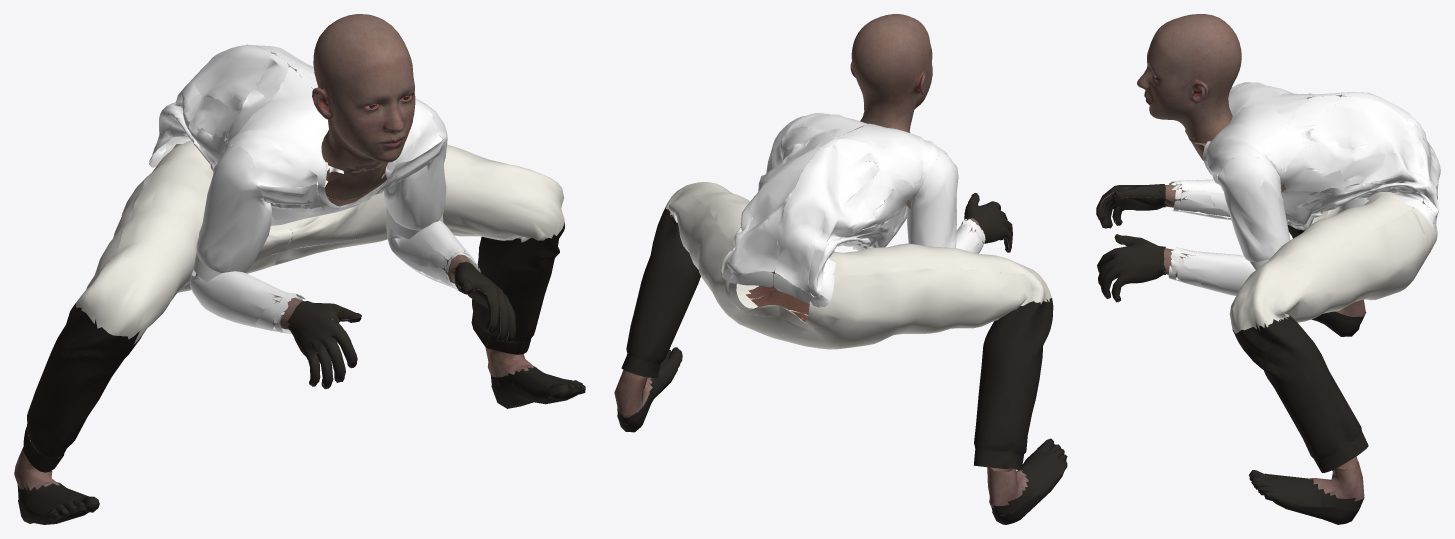
The model's file is jockey-mounted-v3.glb.
3 views of the same model, side by side, from view 1: azimuth 30°, elevation 25°; view 2: azimuth 150°, elevation 25°; view 3: azimuth 270°, elevation 25° (orthographic). The views are drawn at different scales.
Visible parts, largest first — view 1: Pants, Shirt, cm_vitruvian.001, cm_vitruvian, RacingSleeves, FittedRacingGloves; view 2: Pants, Shirt, cm_vitruvian, cm_vitruvian.001, FittedRacingGloves, RacingSleeves; view 3: Shirt, Pants, cm_vitruvian.001, cm_vitruvian, FittedRacingGloves, RacingSleeves.
Boxes of the visible parts, x1=… form: Pants: x1=22, y1=133, x2=564, y2=472; Shirt: x1=149, y1=44, x2=447, y2=281; cm_vitruvian.001: x1=312, y1=14, x2=415, y2=172; cm_vitruvian: x1=14, y1=161, x2=585, y2=524; RacingSleeves: x1=190, y1=220, x2=480, y2=333; FittedRacingGloves: x1=287, y1=261, x2=515, y2=389; Pants: x1=621, y1=182, x2=1053, y2=470; Shirt: x1=721, y1=113, x2=958, y2=307; cm_vitruvian: x1=614, y1=132, x2=1067, y2=524; cm_vitruvian.001: x1=848, y1=14, x2=932, y2=132; FittedRacingGloves: x1=964, y1=193, x2=1012, y2=252; RacingSleeves: x1=955, y1=219, x2=985, y2=253; Shirt: x1=1202, y1=82, x2=1440, y2=269; Pants: x1=1229, y1=179, x2=1437, y2=472; cm_vitruvian.001: x1=1137, y1=14, x2=1241, y2=143; cm_vitruvian: x1=1098, y1=129, x2=1366, y2=524; FittedRacingGloves: x1=1096, y1=184, x2=1167, y2=302; RacingSleeves: x1=1168, y1=179, x2=1255, y2=295.
Size of the model in its own units: 1.57 by 1.43 by 1.08.
Materials: 14 (6 with a texture image).
